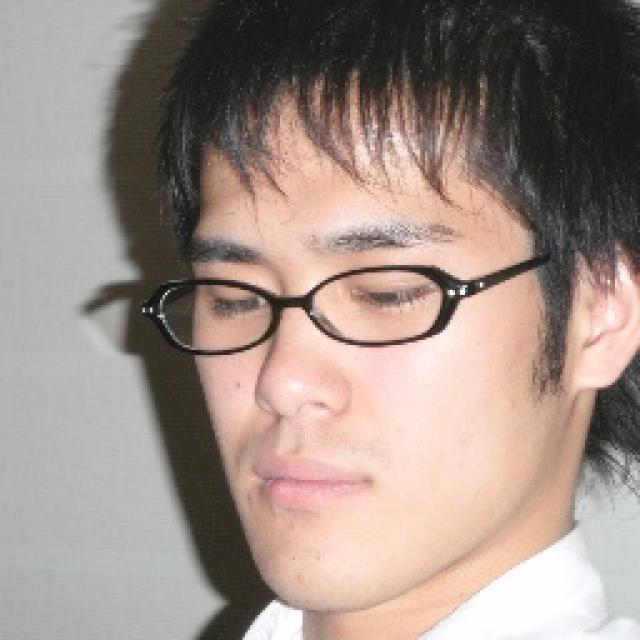earlobe: (580, 351, 623, 391)
eye: (346, 279, 440, 316), (207, 281, 270, 323)
nose: (254, 401, 348, 436)
wholeear: (583, 244, 640, 394)
